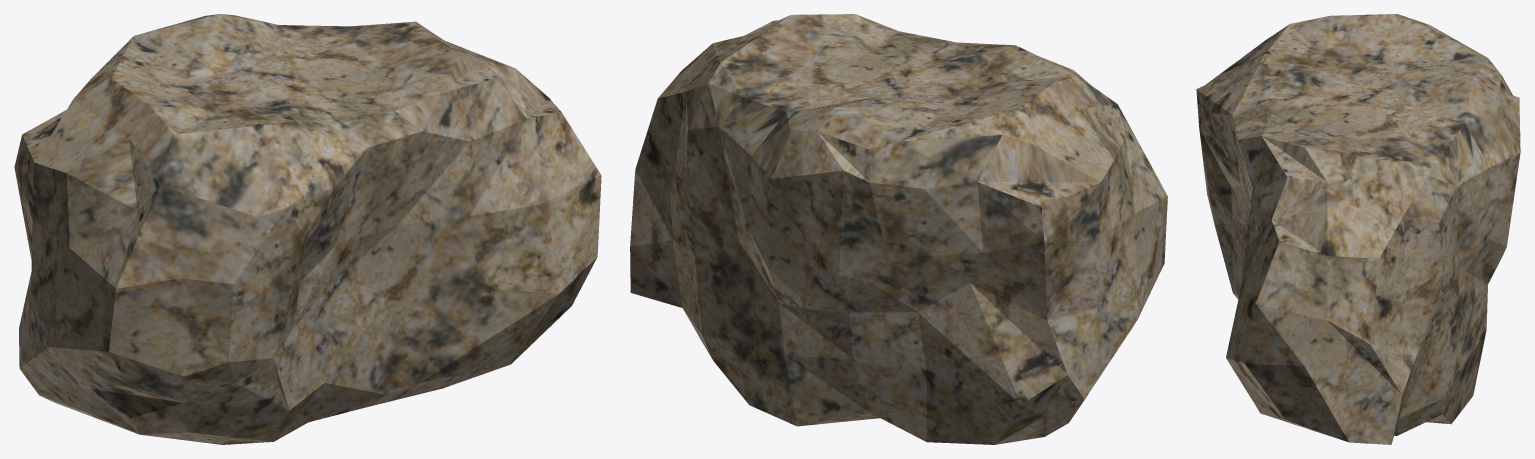
Rendered from sweethome3d-blendswap-cc-0-rock-163.glb.
3 renders of one model, left to right at view 1: azimuth 30°, elevation 25°; view 2: azimuth 150°, elevation 25°; view 3: azimuth 270°, elevation 25°, orthographic. The views are drawn at different scales.
Visible parts, largest first — view 1: Rock03v3_Rock03.003; view 2: Rock03v3_Rock03.003; view 3: Rock03v3_Rock03.003.
Part boxes in pixels (box(x1,y1,x2,y2)): Rock03v3_Rock03.003: box(14, 14, 601, 444); Rock03v3_Rock03.003: box(630, 14, 1167, 444); Rock03v3_Rock03.003: box(1196, 14, 1520, 444).
Size of the model in its own units: 68.53 by 43.77 by 42.32.
1 material, 1 textured.
